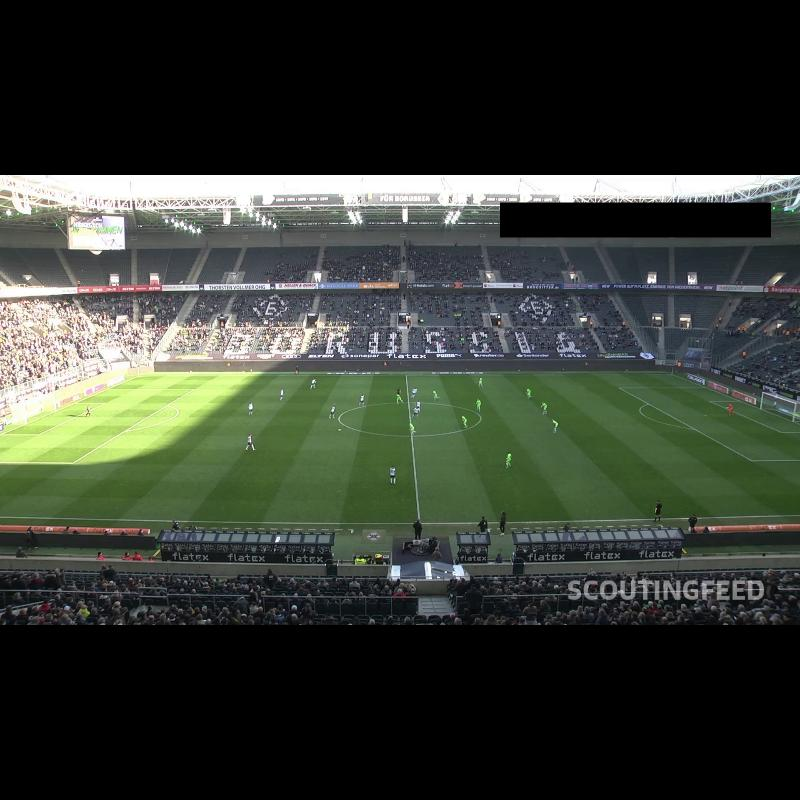cross_recipient_zone: (0, 389, 194, 463), (619, 387, 800, 461)
crossing_player_zone: (0, 463, 151, 519), (673, 460, 800, 516), (109, 375, 263, 389), (551, 374, 705, 387)
pitch: (0, 374, 800, 524)
